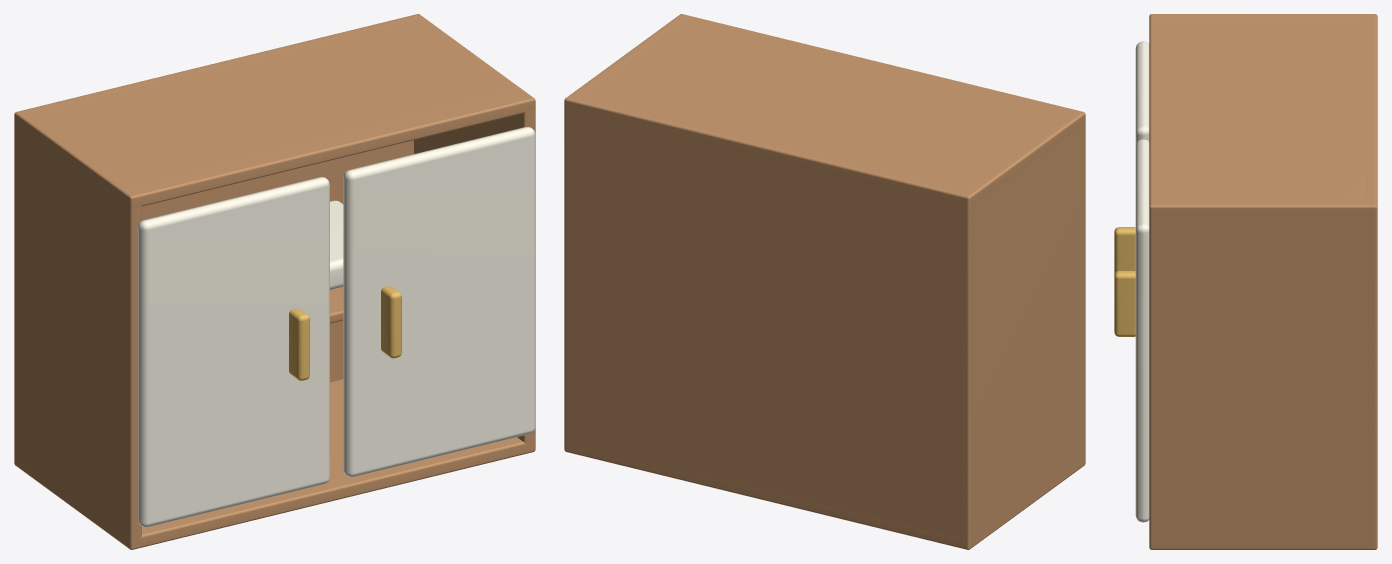
File: japaneseClothesCase.glb
The picture shows the model from 3 angles, left to right: view 1: azimuth 30°, elevation 25°; view 2: azimuth 150°, elevation 25°; view 3: azimuth 270°, elevation 25°; orthographic projection. The views are drawn at different scales.
Visible parts, largest first — view 1: Cabinet door.001, Cabinet door, Storage inner floor.001, Storage inner side, Storage inner floor, Storage inner back, Storage inner side.001, Door handle, Door handle.001, Stored folded linen; view 2: Storage inner back, Storage inner floor.001, Storage inner side, Storage inner side.001, Storage inner floor; view 3: Storage inner side.001, Storage inner floor.001, Cabinet door.001, Storage inner back, Storage inner floor, Cabinet door, Door handle.001, Door handle, Storage inner side.
Part boxes in pixels (x1,y1,x2,y2): Cabinet door.001: (343,127,535,477); Cabinet door: (138,177,329,527); Storage inner floor.001: (15,19,535,207); Storage inner side: (14,110,141,549); Storage inner floor: (15,379,535,549); Storage inner back: (15,14,422,457); Storage inner side.001: (414,14,535,453); Door handle: (289,308,309,380); Door handle.001: (381,286,401,358); Stored folded linen: (330,200,343,290); Storage inner back: (564,95,974,549); Storage inner floor.001: (566,16,1085,207); Storage inner side: (959,110,1085,549); Storage inner side.001: (564,14,689,450); Storage inner floor: (566,443,1085,549); Storage inner side.001: (1149,201,1376,549); Storage inner floor.001: (1149,18,1374,216); Cabinet door.001: (1135,139,1149,522); Storage inner back: (1366,14,1377,549); Storage inner floor: (1149,540,1375,549); Cabinet door: (1135,41,1149,145); Door handle.001: (1114,270,1135,336); Door handle: (1114,227,1135,274); Storage inner side: (1149,14,1376,19).
Bounding box in the file's own units: 1.5 × 1.25 × 0.865.
